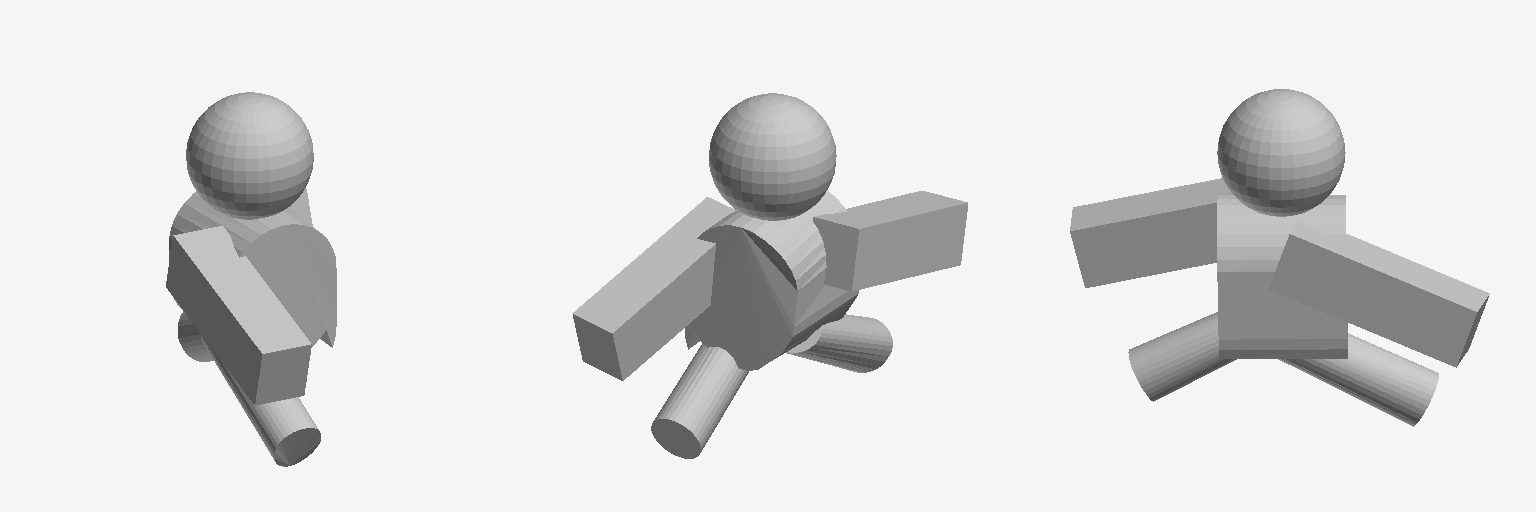
The model's file is Figurine149.obj.
3 views of the same model, side by side, from view 1: azimuth 30°, elevation 25°; view 2: azimuth 150°, elevation 25°; view 3: azimuth 270°, elevation 25° (orthographic).
Visible parts, largest first — view 1: Cylinder; view 2: Cylinder; view 3: Cylinder.
Part boxes in pixels (x1,y1,x2,y2): Cylinder: (166, 92, 336, 466); Cylinder: (572, 93, 967, 458); Cylinder: (1070, 89, 1489, 426).
Size of the model in its own units: 3.49 by 5.46 by 6.56.